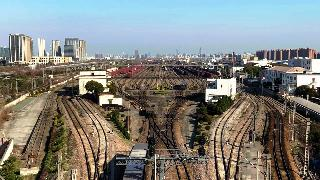train: (180, 80, 187, 89), (145, 107, 154, 113)
